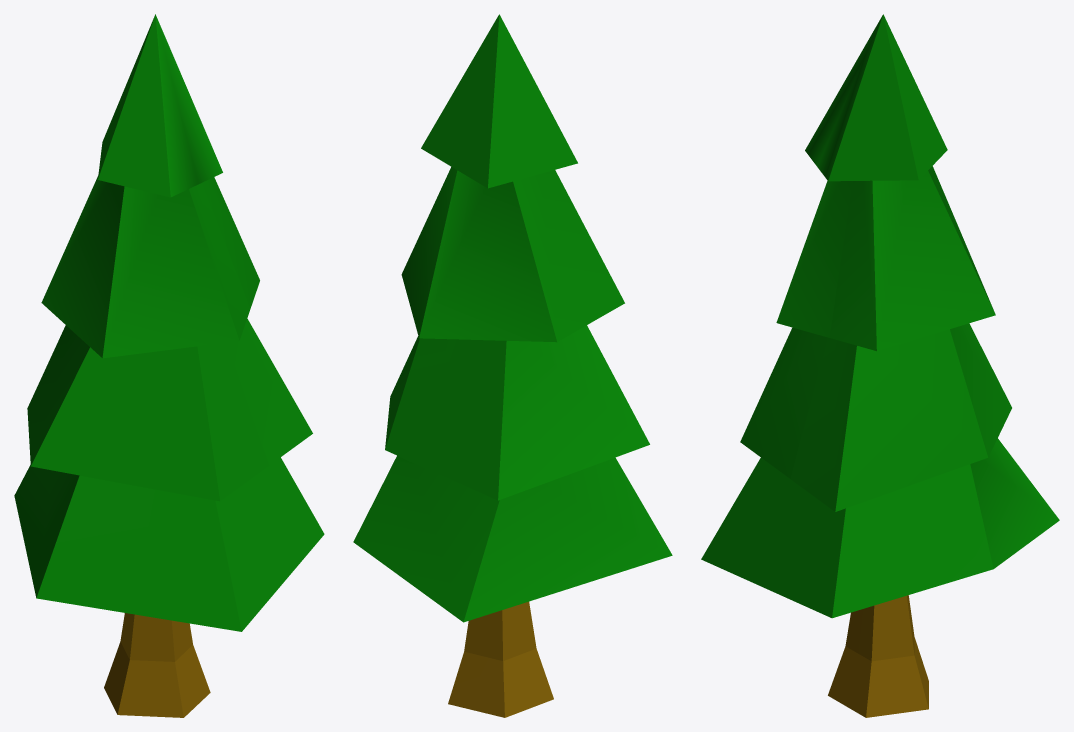
The model's file is tree_pine_01.fbx.
3 renders of one model, left to right at view 1: azimuth 30°, elevation 25°; view 2: azimuth 150°, elevation 25°; view 3: azimuth 270°, elevation 25°, orthographic.
Parts seen in each view (by area): view 1: pine_tree; view 2: pine_tree; view 3: pine_tree.
Boxes of the visible parts, left/top/right/bottom form: pine_tree: left=14, top=14, right=324, bottom=717; pine_tree: left=353, top=14, right=672, bottom=717; pine_tree: left=701, top=14, right=1059, bottom=717.
Bounding box in the file's own units: 32.23 × 72.58 × 34.65.
